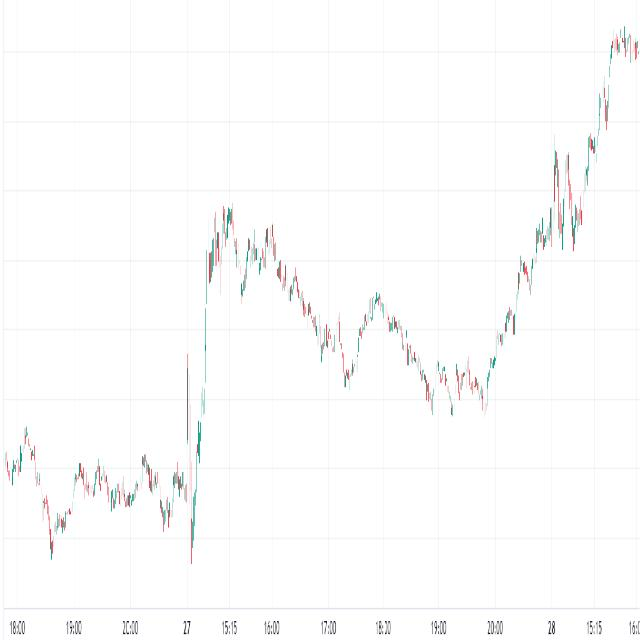Channel-down: (262, 202, 352, 412), (374, 278, 435, 431)
Double-Top: (433, 351, 450, 399)
